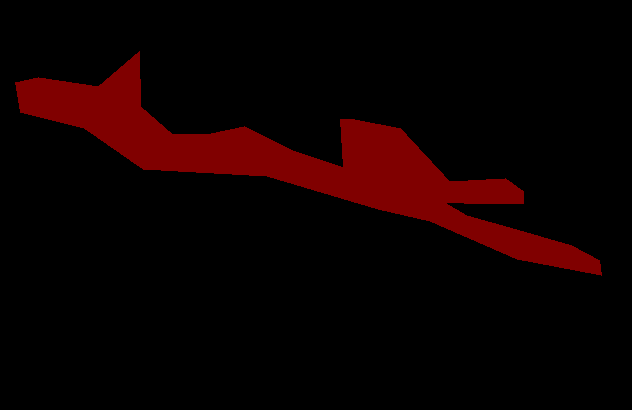fire: (15, 51, 601, 275)
